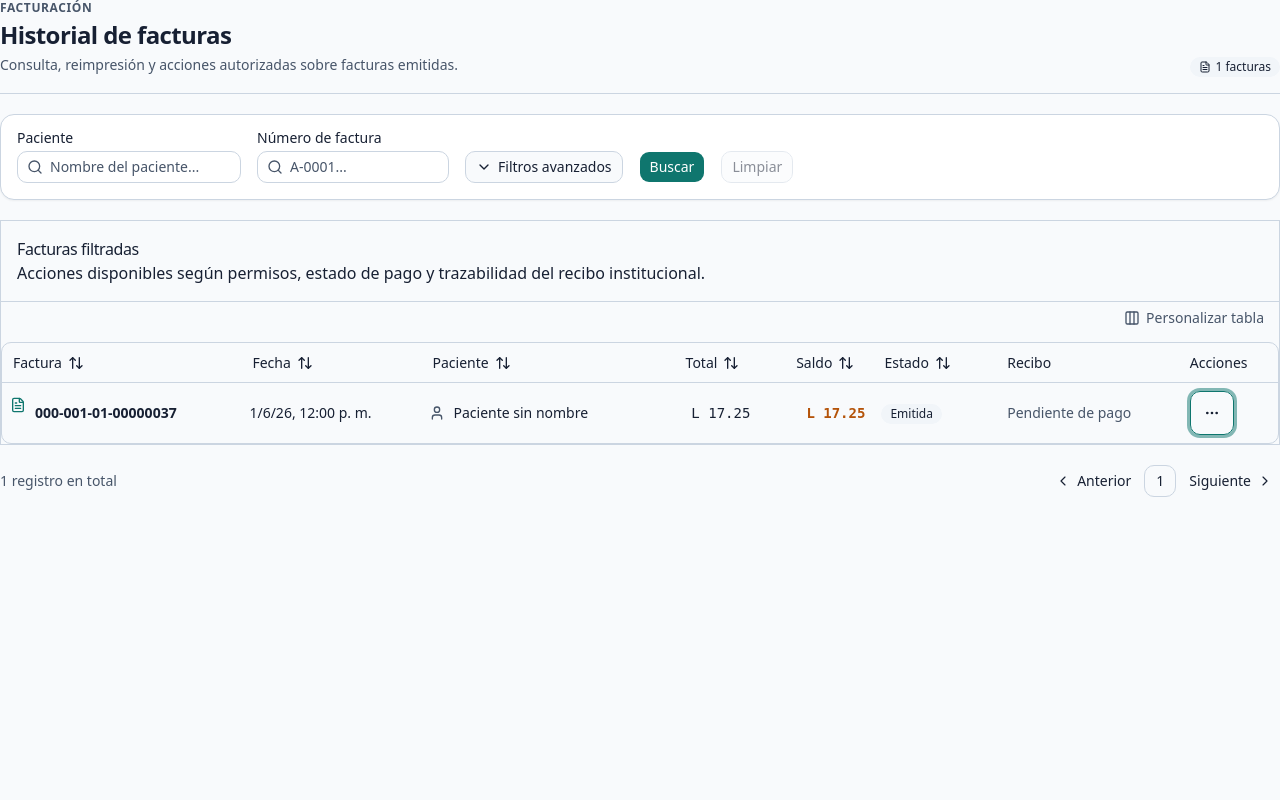
Test: InvoiceHistoryView › shows a human patient fallback in the void confirmation dialog
Check: the button "000-001-01-00000037" is shown, box [34,395,178,431]
Press Enter in the button named "Acciones de la factura 000-001-01-00000037", box [1190,391,1234,435]
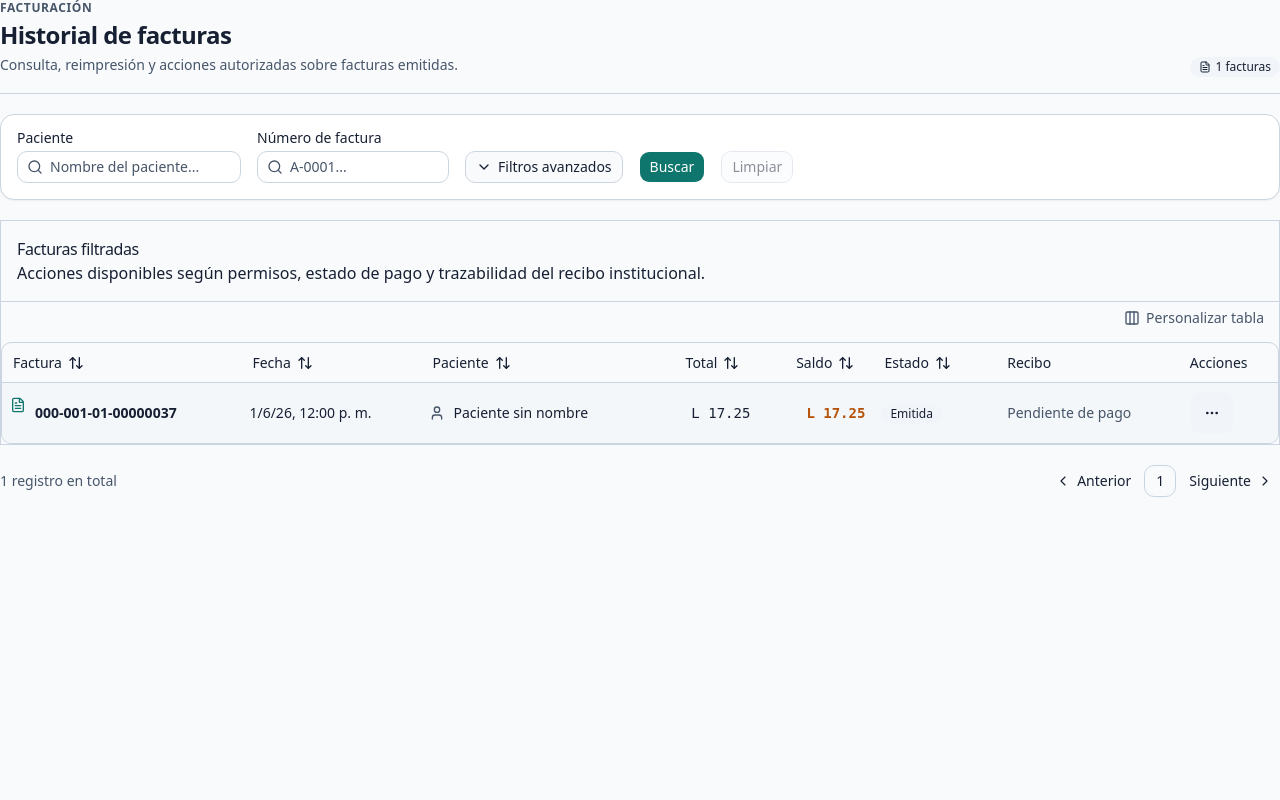
Click the button named "Acciones de la factura 000-001-01-00000037". click: [1212, 413]
box: [1190,391,1234,435]
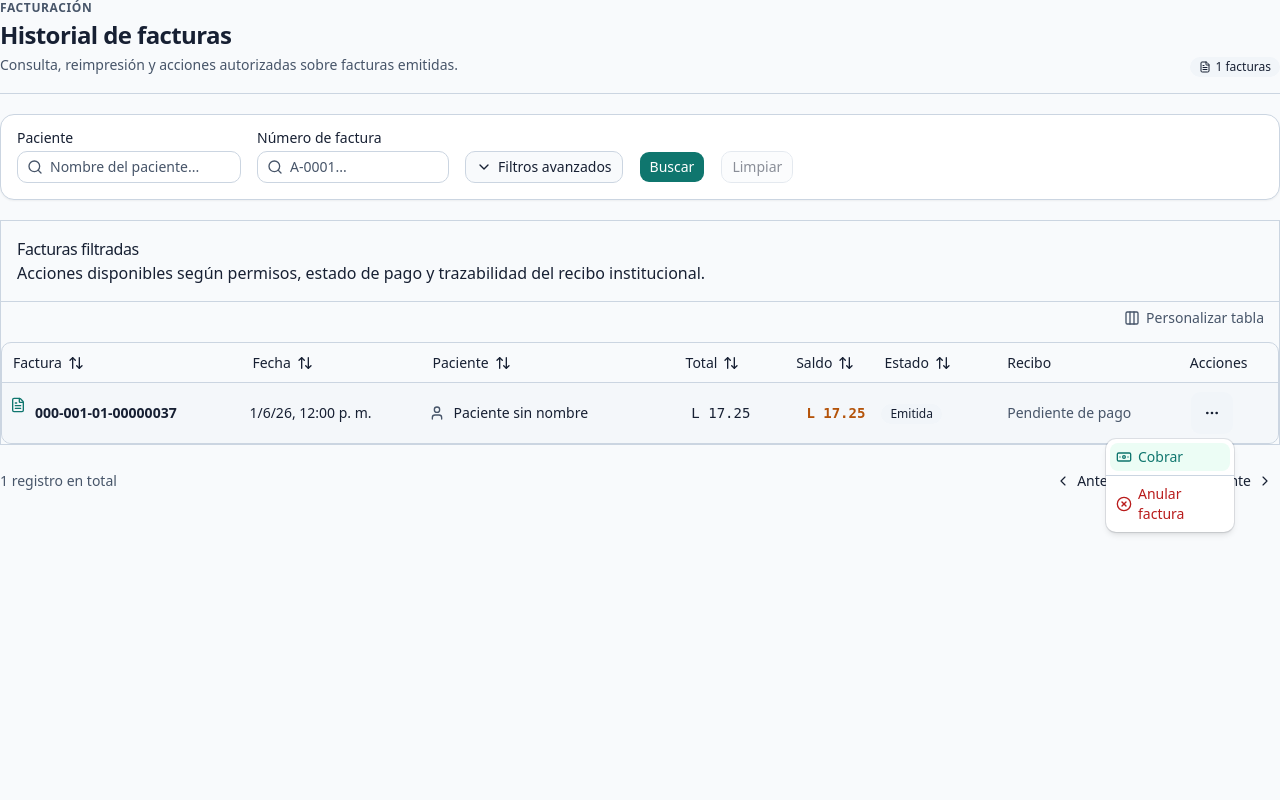
Check: the menu item "Cobrar" is shown, box [1110,443,1230,471]
Click the menu item "Anular factura". click: [1150, 504]
box: [1116,484,1184,523]
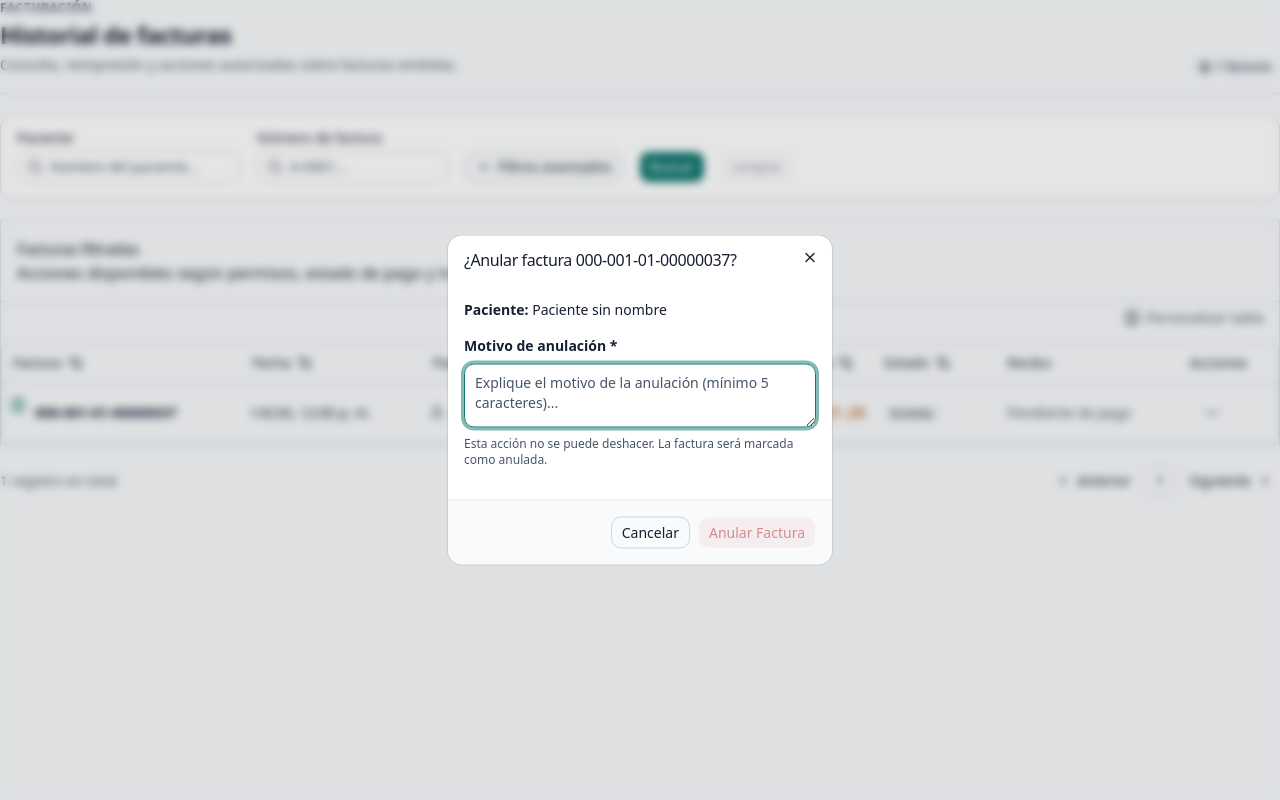
Check: the heading "¿Anular factura 000-001-01-00000037?" is shown, box [464,248,736,270]
Check: the text "Paciente: Paciente sin nombre" is shown, box [464,300,667,318]
